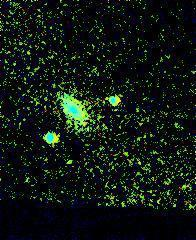star: (52, 146, 82, 176)
